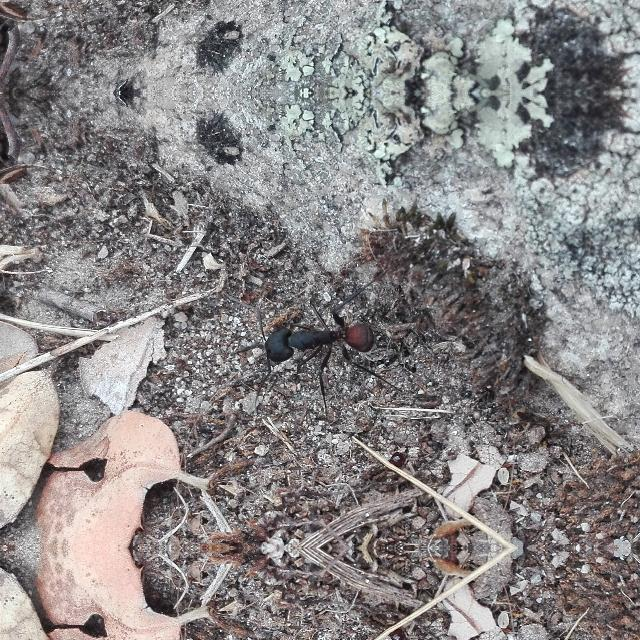Camponotus: (238, 301, 402, 381)
